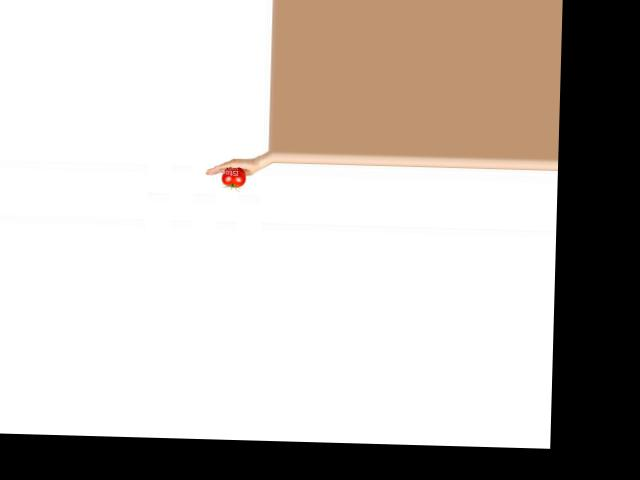tomato: (221, 167, 245, 187)
